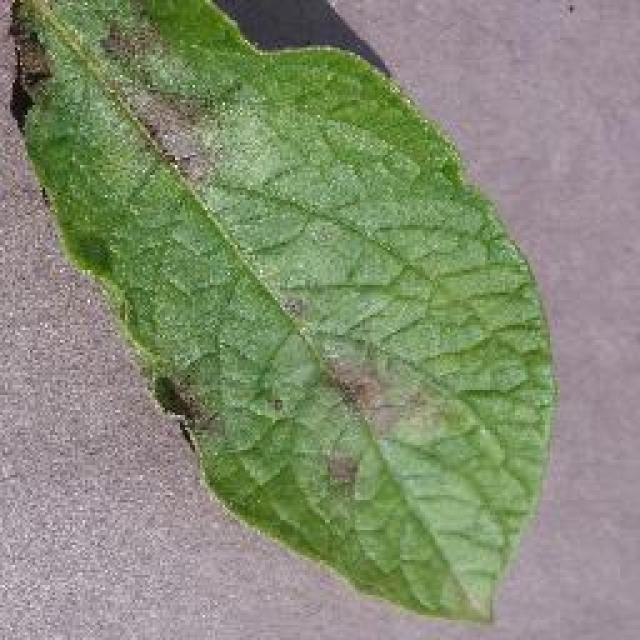Potato___Late_blight: (12, 0, 562, 626)
